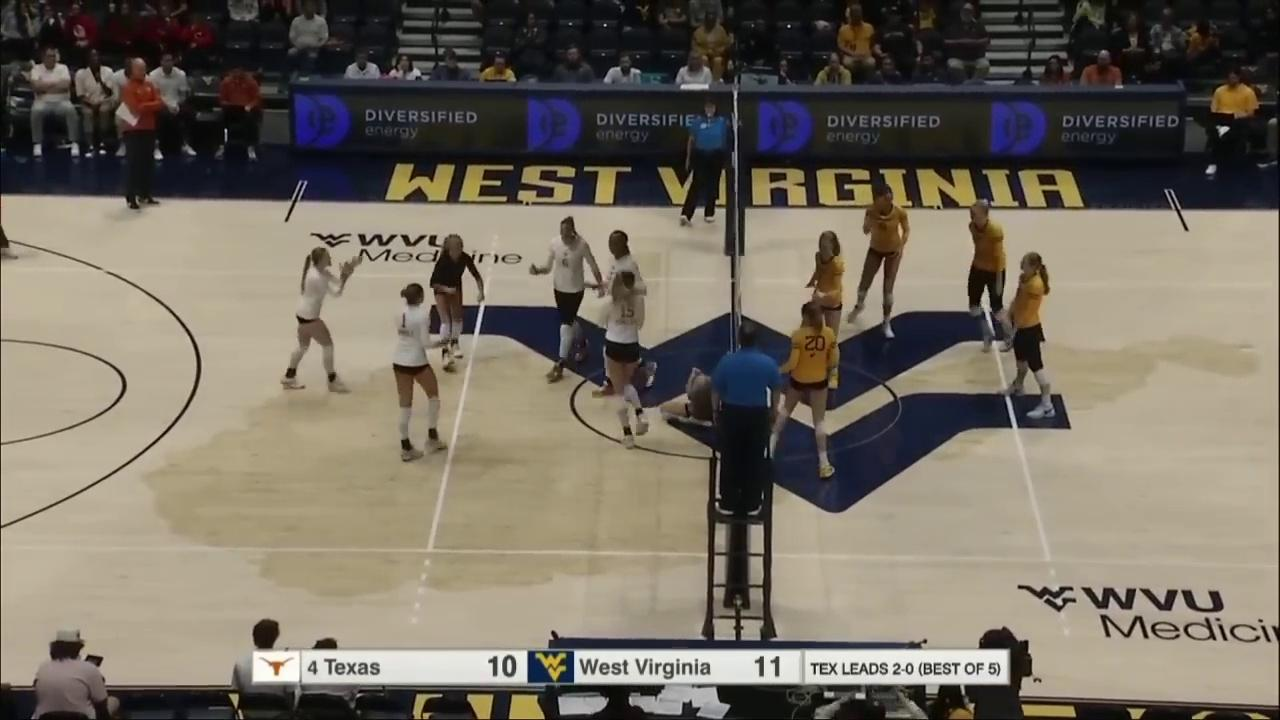player: (982, 252, 1067, 428), (767, 303, 839, 481), (531, 213, 603, 383), (278, 245, 358, 393), (597, 226, 663, 397), (388, 281, 449, 461), (601, 267, 653, 452), (853, 183, 911, 341), (964, 198, 1019, 352), (431, 231, 487, 377), (661, 361, 778, 425), (803, 230, 847, 390)
refree: (709, 321, 780, 521), (679, 100, 733, 236)
